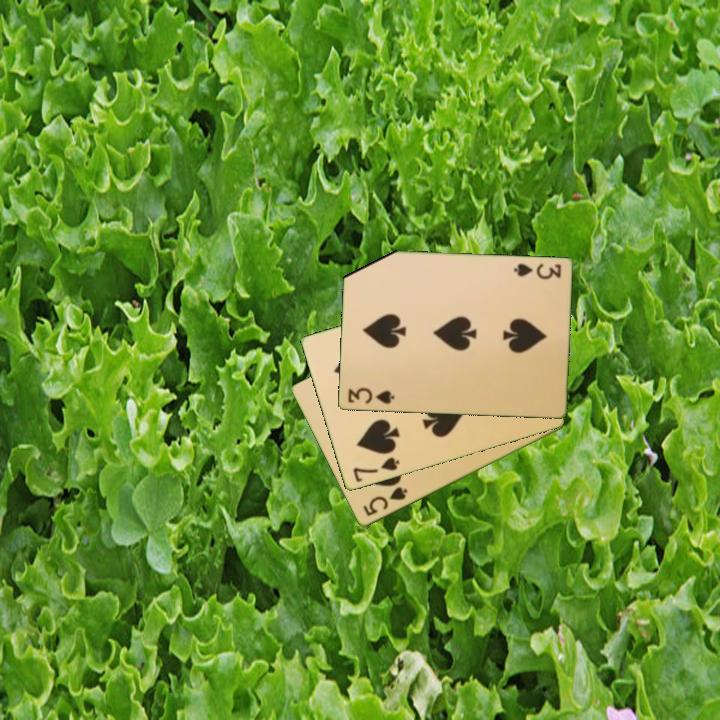3s: (344, 384, 397, 407), (510, 260, 564, 282)
5s: (359, 483, 411, 519)
7s: (349, 454, 402, 485)
